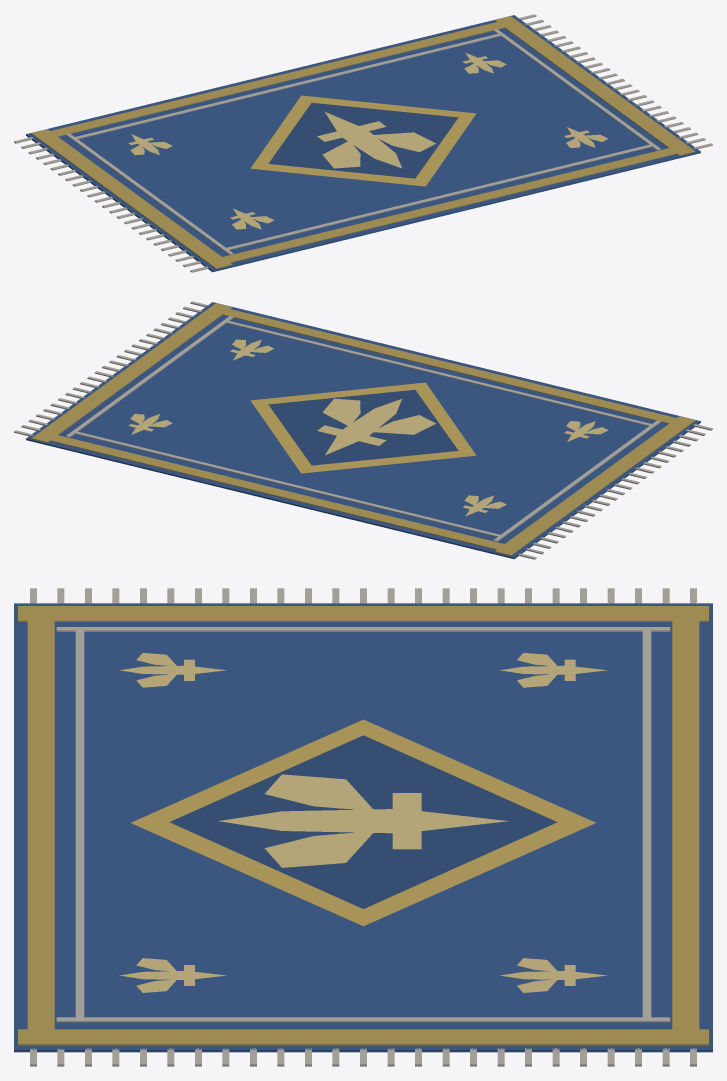
File: palace_rug_blue.glb
The picture shows the model from 3 angles, top to bottom: view 1: azimuth 30°, elevation 25°; view 2: azimuth 150°, elevation 25°; view 3: azimuth 270°, elevation 25°; orthographic projection. The views are drawn at different scales.
Parts seen in each view (by area): view 1: palace_rug_blue; view 2: palace_rug_blue; view 3: palace_rug_blue.
Part boxes in pixels (<box>): palace_rug_blue: <box>14,14,712,272</box>; palace_rug_blue: <box>14,301,712,559</box>; palace_rug_blue: <box>14,588,712,1066</box>.
Size of the model in its own units: 2.9 by 0.023 by 1.8.
